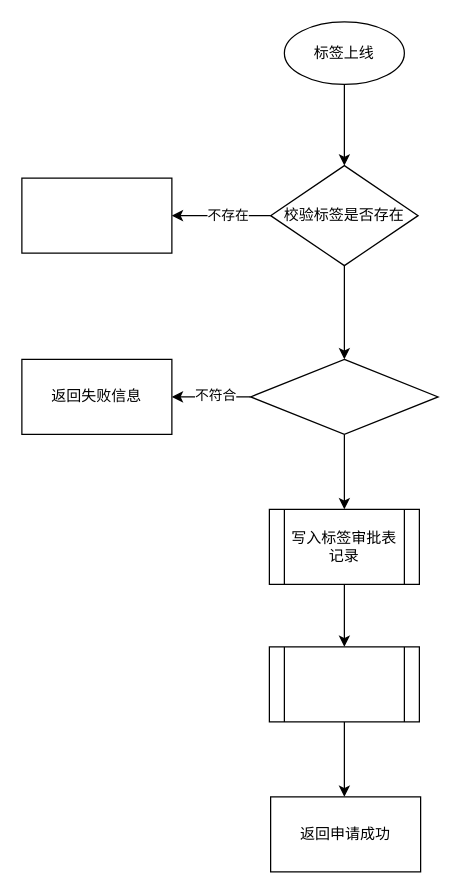
The diagram is 460 pixels wide and 894 high, and some of its shapes have lost their labels. The centre of each missing label's shape, as x and y in pixels:
修改标签规则表，对应版本改为审批中: point 343,684
校验标签版本是否处于 下线或草稿状态: point 343,396
返回不存在: point 96,215
